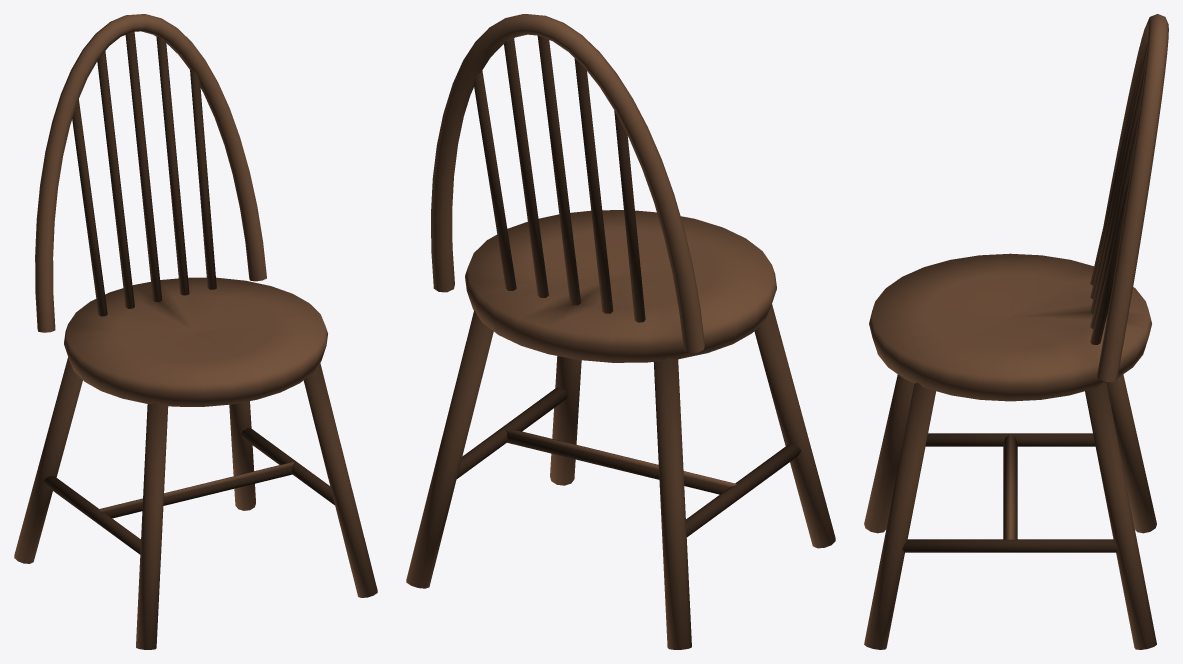
Rendered from chairWindsor.glb.
3 renders of one model, left to right at view 1: azimuth 30°, elevation 25°; view 2: azimuth 150°, elevation 25°; view 3: azimuth 270°, elevation 25°, orthographic. The views are drawn at different scales.
Visible parts, largest first — view 1: chairWindsor; view 2: chairWindsor; view 3: chairWindsor.
Part boxes in pixels (left/top/right/bottom): chairWindsor: left=14, top=14, right=377, bottom=649; chairWindsor: left=406, top=14, right=835, bottom=649; chairWindsor: left=864, top=14, right=1168, bottom=649.
Size of the model in its own units: 0.4745 by 0.9754 by 0.4736.
